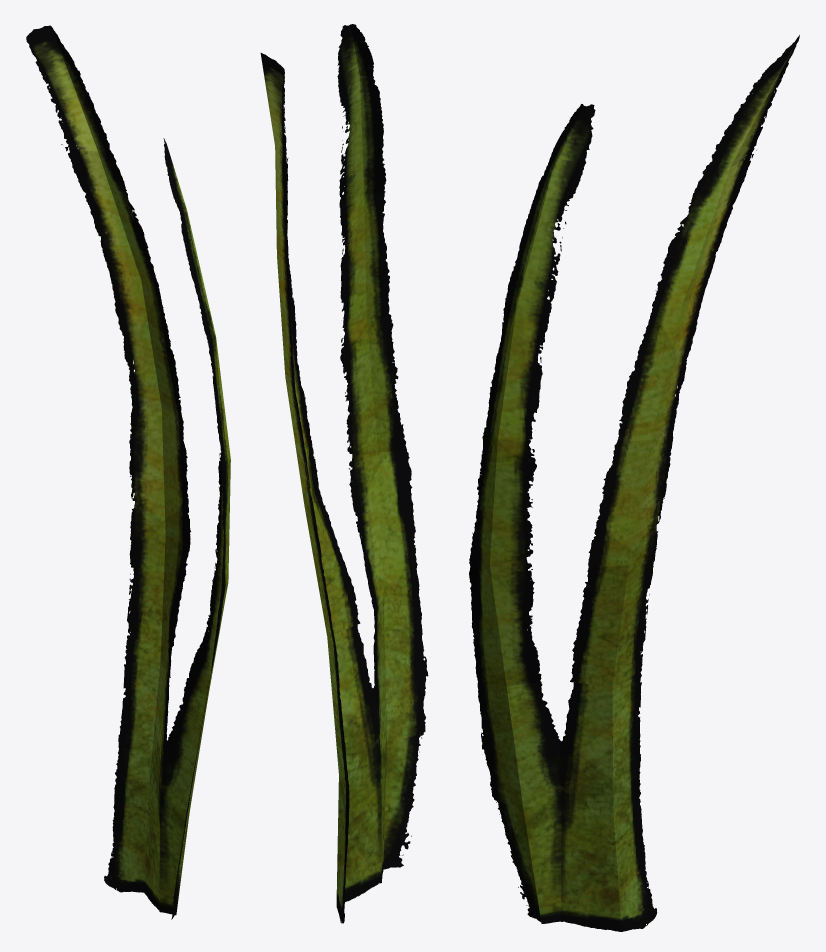
Rendered from grass_1A_mesh.fbx.
The picture shows the model from 3 angles, left to right: view 1: azimuth 30°, elevation 25°; view 2: azimuth 150°, elevation 25°; view 3: azimuth 270°, elevation 25°; orthographic projection. The views are drawn at different scales.
Parts seen in each view (by area): view 1: grass_1A; view 2: grass_1A; view 3: grass_1A.
Boxes of the visible parts, x1,y1,x2,y2 form: grass_1A: [26, 25, 230, 919]; grass_1A: [260, 24, 428, 923]; grass_1A: [469, 35, 799, 931].
Bounding box in the file's own units: 10.29 × 100 × 35.2.
